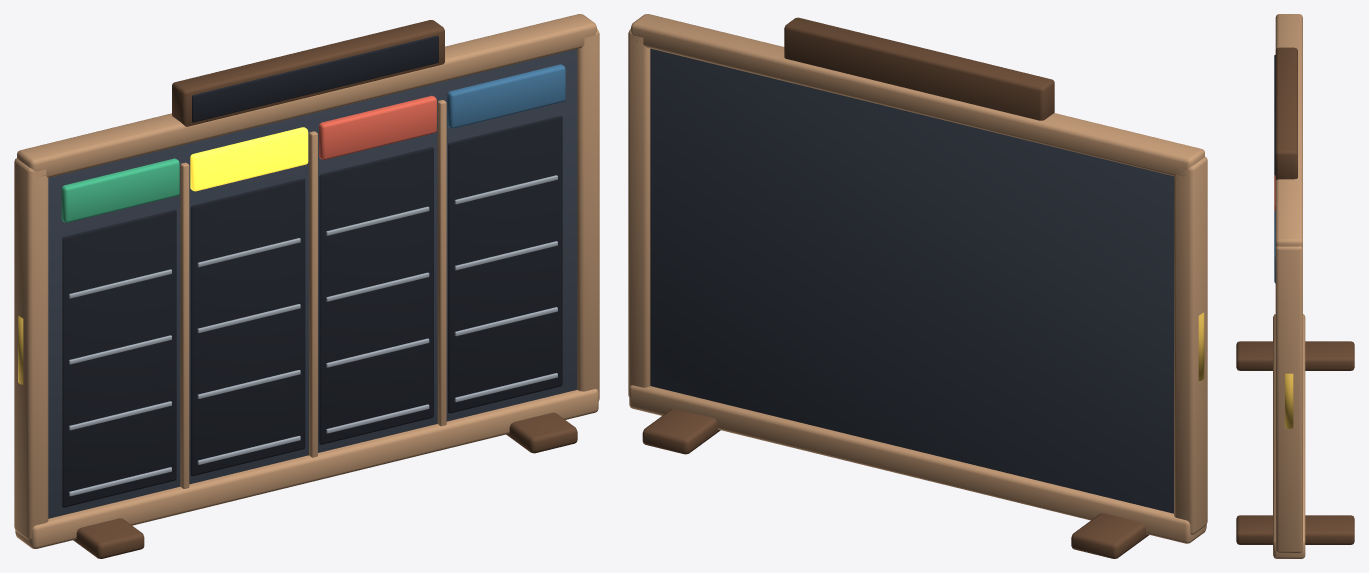
The model's file is TaskBoard_KanbanFrame.fbx.
3 renders of one model, left to right at view 1: azimuth 30°, elevation 25°; view 2: azimuth 150°, elevation 25°; view 3: azimuth 270°, elevation 25°, orthographic. The views are drawn at different scales.
Parts seen in each view (by area): view 1: Board_Backing, ColumnLane_Blocked, ColumnLane_InProgress, ColumnLane_Completed, ColumnLane_Queued, Board_TopRail, Board_BotRail, Board_RightRail, Board_LeftRail, Board_TitleFace, Board_TitlePediment, Header_Queued (+8 smaller); view 2: Board_Backing, Board_TopRail, Board_BotRail, Board_TitlePediment, Board_RightRail, Board_LeftRail, Board_StandFoot_L, Board_StandFoot_R; view 3: Board_LeftRail, Board_TopRail, Board_TitlePediment, Board_StandFoot_R, Board_StandFoot_L, Board_BotRail, Board_GrabHandle_L, Board_TitleFace.
Boxes of the visible parts, x1=… form: Board_Backing: x1=48, y1=49, x2=577, y2=518; ColumnLane_Blocked: x1=190, y1=178, x2=305, y2=475; ColumnLane_InProgress: x1=319, y1=147, x2=433, y2=444; ColumnLane_Completed: x1=62, y1=210, x2=176, y2=507; ColumnLane_Queued: x1=448, y1=115, x2=562, y2=413; Board_TopRail: x1=17, y1=14, x2=596, y2=177; Board_BotRail: x1=15, y1=389, x2=598, y2=548; Board_RightRail: x1=14, y1=158, x2=48, y2=540; Board_LeftRail: x1=577, y1=29, x2=599, y2=400; Board_TitleFace: x1=192, y1=35, x2=438, y2=122; Board_TitlePediment: x1=172, y1=20, x2=444, y2=126; Header_Queued: x1=447, y1=64, x2=565, y2=128; Board_Backing: x1=650, y1=48, x2=1173, y2=513; Board_TopRail: x1=631, y1=14, x2=1204, y2=176; Board_BotRail: x1=629, y1=385, x2=1206, y2=543; Board_TitlePediment: x1=784, y1=17, x2=1054, y2=120; Board_RightRail: x1=1174, y1=157, x2=1207, y2=534; Board_LeftRail: x1=628, y1=29, x2=650, y2=396; Board_StandFoot_L: x1=642, y1=408, x2=720, y2=454; Board_StandFoot_R: x1=1071, y1=513, x2=1148, y2=558; Board_LeftRail: x1=1275, y1=246, x2=1302, y2=553; Board_TopRail: x1=1275, y1=14, x2=1302, y2=247; Board_TitlePediment: x1=1275, y1=47, x2=1297, y2=179; Board_StandFoot_R: x1=1236, y1=341, x2=1354, y2=370; Board_StandFoot_L: x1=1236, y1=515, x2=1354, y2=544; Board_BotRail: x1=1273, y1=314, x2=1305, y2=558; Board_GrabHandle_L: x1=1285, y1=373, x2=1293, y2=428; Board_TitleFace: x1=1274, y1=55, x2=1275, y2=175.
Bounding box in the file's own units: 43.9 × 31 × 9.5.
